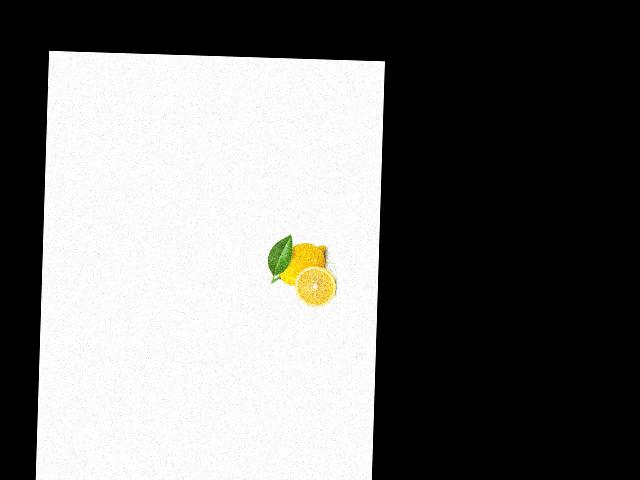lemon: (271, 239, 328, 289)
